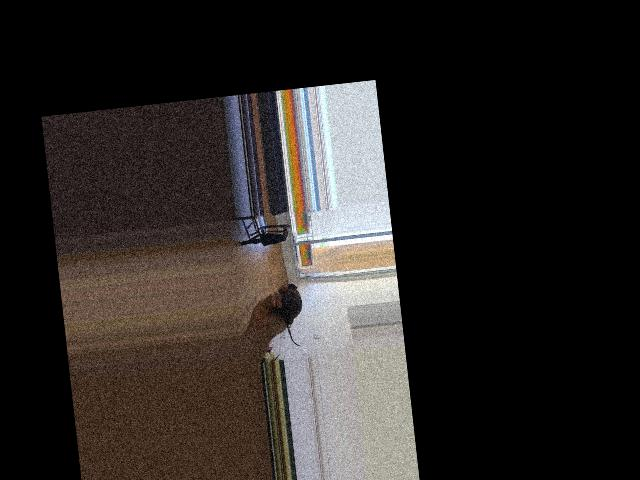beet: (278, 281, 306, 347)
